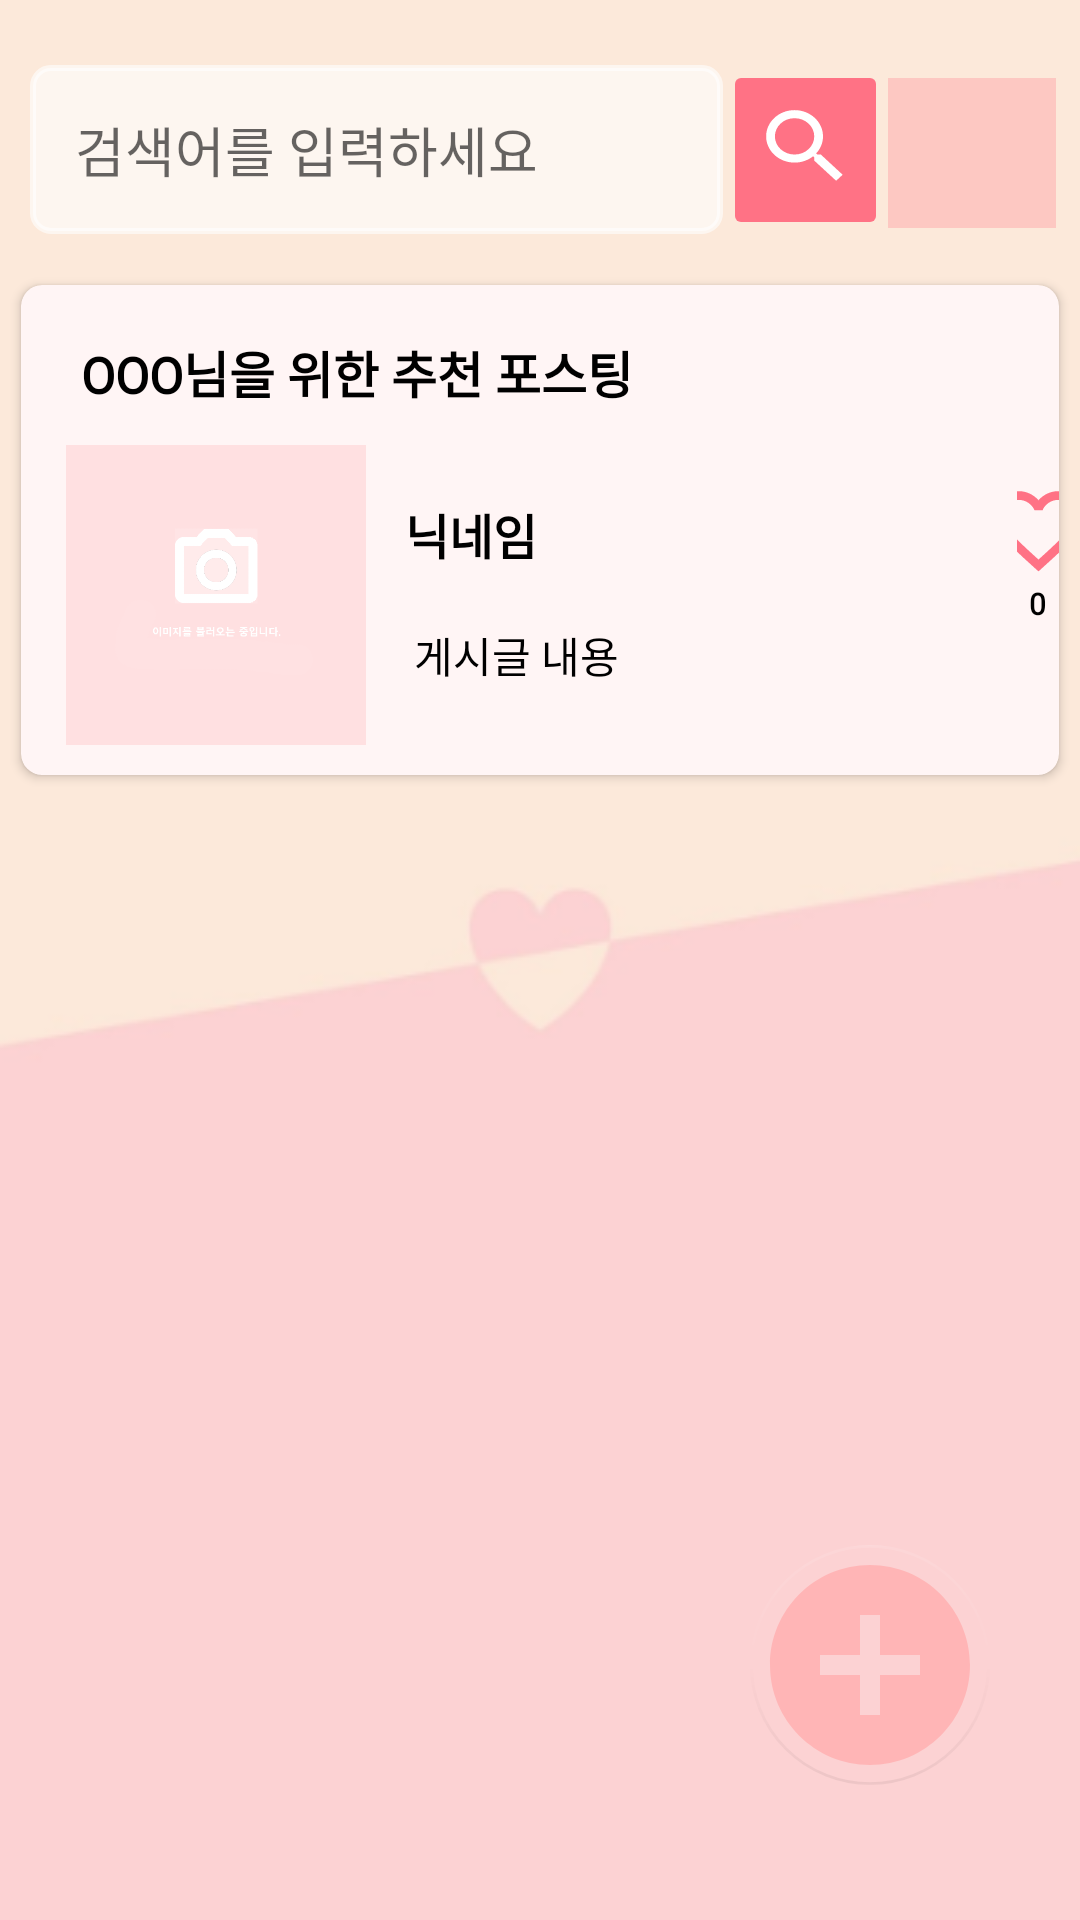

Screen size 1080w x 1920h. Icon name, then its center in pixels as [x,y]:
add circle: [870,1665]
search: [805,150]
